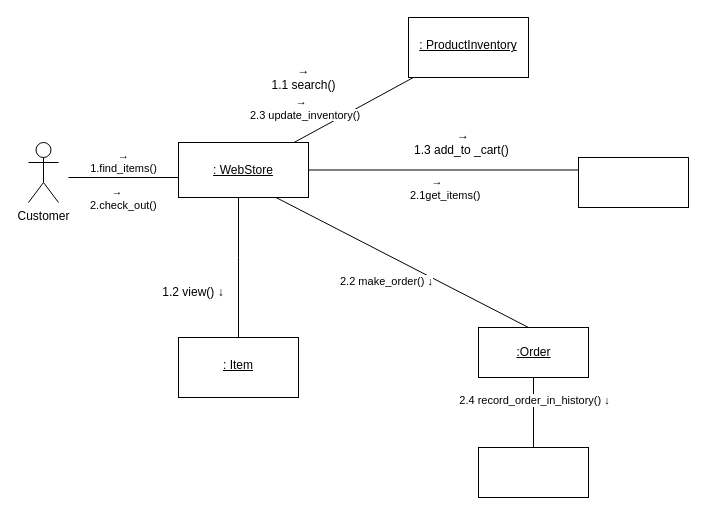
This 706x515 diagram has some shape labels left out. The centre of each missing label's shape, as x and y in pixels:
":History" belongs at point (533, 472).
":ShoppingCart" belongs at point (633, 182).
